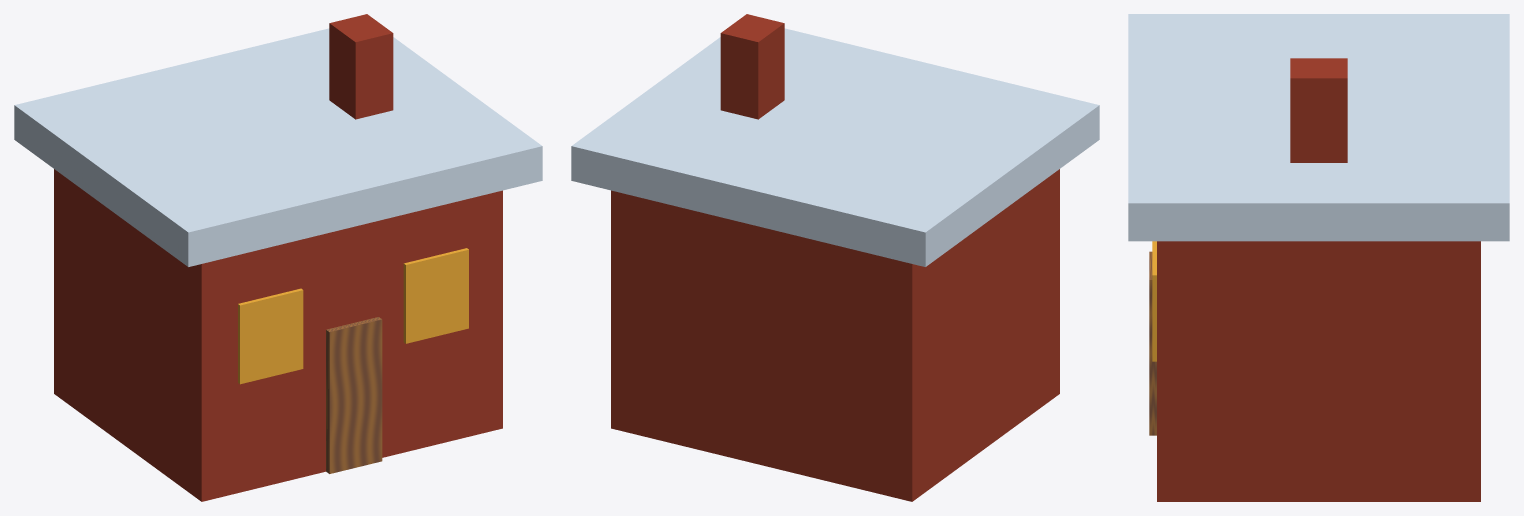
Rendered from house.obj.
3 views of the same model, side by side, from view 1: azimuth 30°, elevation 25°; view 2: azimuth 150°, elevation 25°; view 3: azimuth 270°, elevation 25° (orthographic). The views are drawn at different scales.
Size of the model in its own units: 2.35 by 2.3 by 2.
Materials: 4 (1 with a texture image).
